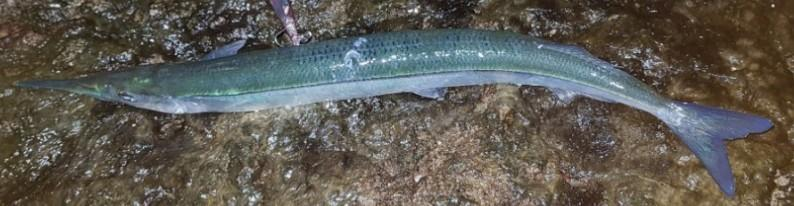fish: (14, 30, 776, 196)
